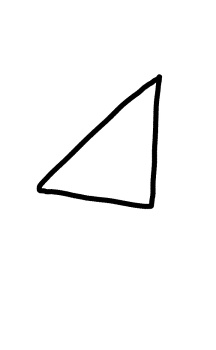Triangle: (32, 72, 163, 211)
